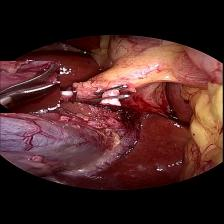Scissors: (0, 60, 60, 112)
